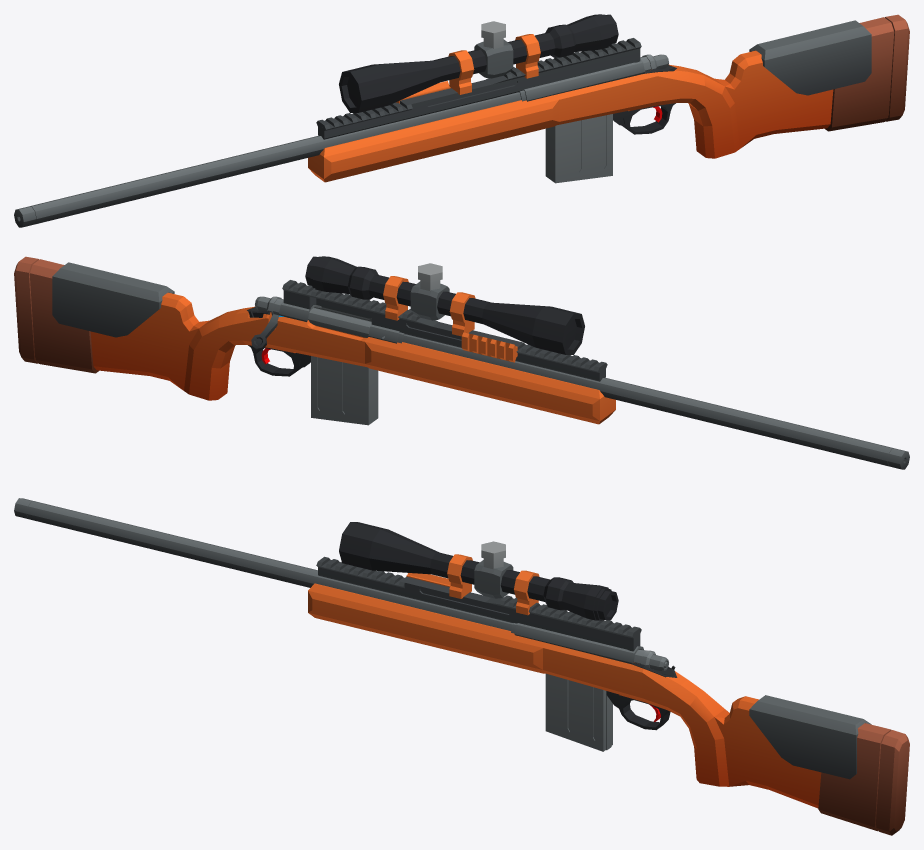
The model's file is Sniper_Rifle.fbx.
3 renders of one model, top to bottom at view 1: azimuth 30°, elevation 25°; view 2: azimuth 150°, elevation 25°; view 3: azimuth 330°, elevation 25°, orthographic.
Visible parts, largest first — view 1: Sniper Rifle; view 2: Sniper Rifle; view 3: Sniper Rifle.
Part boxes in pixels (left/top/right/bottom): Sniper Rifle: left=14, top=14, right=909, bottom=227; Sniper Rifle: left=14, top=256, right=909, bottom=469; Sniper Rifle: left=14, top=498, right=909, bottom=835.
Bounding box in the file's own units: 285 × 57.62 × 16.24.
1 material, 1 textured.
